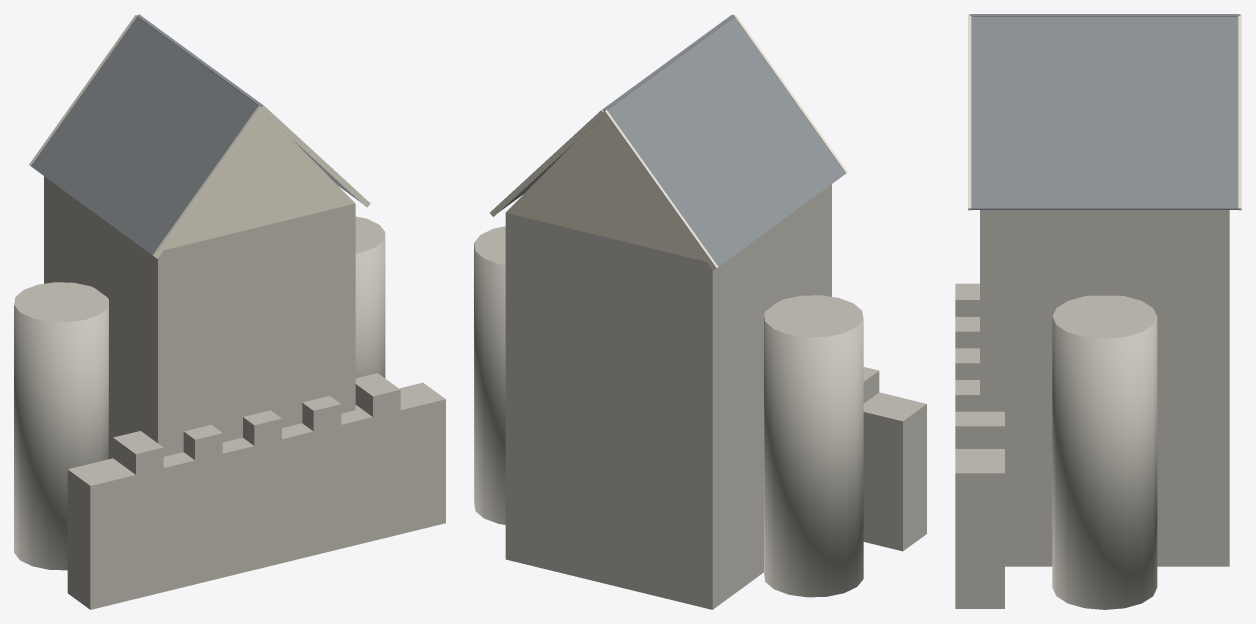
The model's file is rhine-castle_lod0.glb.
The picture shows the model from 3 angles, left to right: view 1: azimuth 30°, elevation 25°; view 2: azimuth 150°, elevation 25°; view 3: azimuth 270°, elevation 25°; orthographic projection. The views are drawn at different scales.
Parts seen in each view (by area): view 1: RF_CastleKeep, RF_CastleWall, RF_Roof.001, RF_CastleTurret.001, RF_Gable, RF_CastleTurret, RF_Crenellation.001, RF_Crenellation, RF_Vergeband.001, RF_Crenellation.002, RF_Crenellation.004, RF_Crenellation.003 (+2 smaller); view 2: RF_CastleKeep, RF_Roof.001, RF_CastleTurret.001, RF_Gable.001, RF_CastleWall, RF_CastleTurret, RF_Vergeband.002, RF_Vergeband, RF_Ridge; view 3: RF_CastleKeep, RF_Roof, RF_CastleTurret, RF_CastleWall, RF_Crenellation, RF_Ridge, RF_Crenellation.001, RF_Crenellation.002, RF_Crenellation.003, RF_Crenellation.004, RF_Vergeband, RF_Vergeband.003.
Part boxes in pixels (left/top/right/bottom): RF_CastleKeep: left=44, top=176, right=355, bottom=458; RF_CastleWall: left=67, top=382, right=445, bottom=609; RF_Roof.001: left=31, top=17, right=258, bottom=255; RF_CastleTurret.001: left=14, top=282, right=108, bottom=570; RF_Gable: left=164, top=112, right=354, bottom=249; RF_CastleTurret: left=355, top=216, right=385, bottom=378; RF_Crenellation.001: left=113, top=431, right=163, bottom=474; RF_Crenellation: left=355, top=373, right=400, bottom=416; RF_Vergeband.001: left=152, top=105, right=263, bottom=258; RF_Crenellation.002: left=183, top=424, right=222, bottom=460; RF_Crenellation.004: left=302, top=396, right=341, bottom=431; RF_Crenellation.003: left=243, top=410, right=281, bottom=445; RF_CastleKeep: left=505, top=184, right=831, bottom=609; RF_Roof.001: left=607, top=17, right=845, bottom=266; RF_CastleTurret.001: left=764, top=295, right=863, bottom=597; RF_Gable.001: left=506, top=116, right=706, bottom=261; RF_CastleWall: left=863, top=392, right=926, bottom=551; RF_CastleTurret: left=474, top=226, right=505, bottom=524; RF_Vergeband.002: left=601, top=110, right=717, bottom=270; RF_Vergeband: left=490, top=109, right=603, bottom=216; RF_Ridge: left=602, top=15, right=734, bottom=111; RF_CastleKeep: left=980, top=210, right=1229, bottom=566; RF_Roof: left=970, top=16, right=1239, bottom=209; RF_CastleTurret: left=1052, top=295, right=1157, bottom=609; RF_CastleWall: left=955, top=283, right=1004, bottom=608; RF_Crenellation: left=955, top=411, right=1004, bottom=448; RF_Ridge: left=969, top=14, right=1240, bottom=16; RF_Crenellation.001: left=955, top=285, right=979, bottom=316; RF_Crenellation.002: left=955, top=317, right=979, bottom=348; RF_Crenellation.003: left=955, top=348, right=979, bottom=379; RF_Crenellation.004: left=955, top=380, right=979, bottom=411; RF_Vergeband: left=1238, top=16, right=1241, bottom=210; RF_Vergeband.003: left=968, top=16, right=971, bottom=210.
Size of the model in its own units: 18.2 by 22.08 by 11.49.
